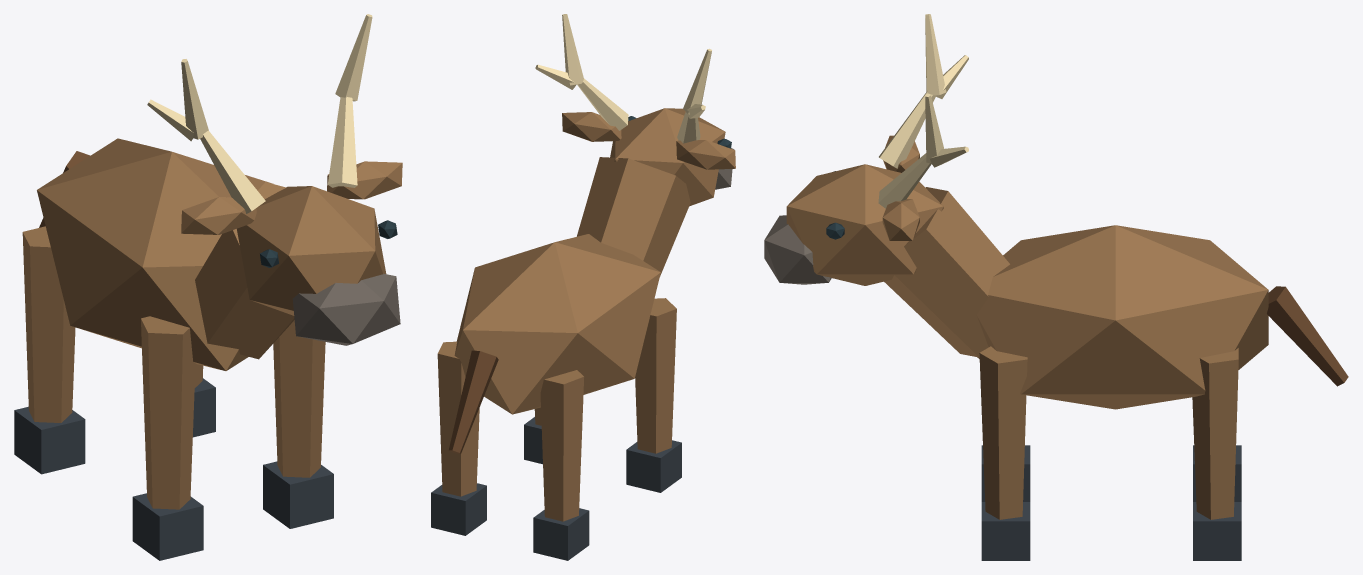
Rendered from res_deer.glb.
3 renders of one model, left to right at view 1: azimuth 30°, elevation 25°; view 2: azimuth 150°, elevation 25°; view 3: azimuth 270°, elevation 25°, orthographic. The views are drawn at different scales.
Parts seen in each view (by area): view 1: res_deer; view 2: res_deer; view 3: res_deer.
Boxes of the visible parts, x1,y1,x2,y2 form: res_deer: (14, 14, 402, 560); res_deer: (431, 14, 735, 560); res_deer: (764, 14, 1348, 560).
Size of the model in its own units: 0.1461 by 0.3305 by 0.3735.
